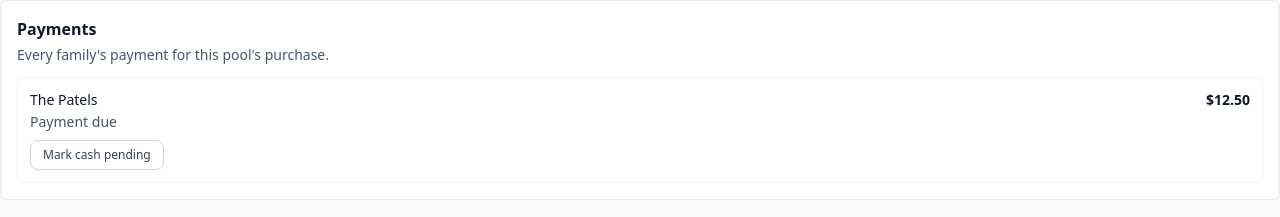
it: OrganizerPaymentsPanel › shows Mark cash pending only on a PENDING row, and calls the endpoint
What coordinates should you click on to do the following:
click the button "Mark cash pending"
I would click on:
 (97, 155)
Its box is [30, 140, 164, 170].
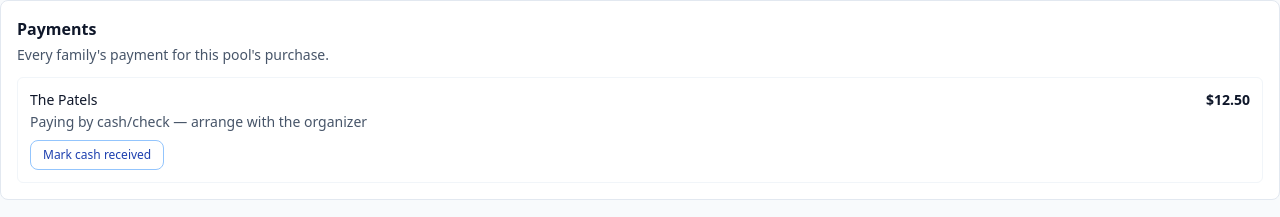
Expected: the button "Mark cash pending" is gone
Expected: the button "Mark cash received" is shown, [30, 140, 164, 170]
